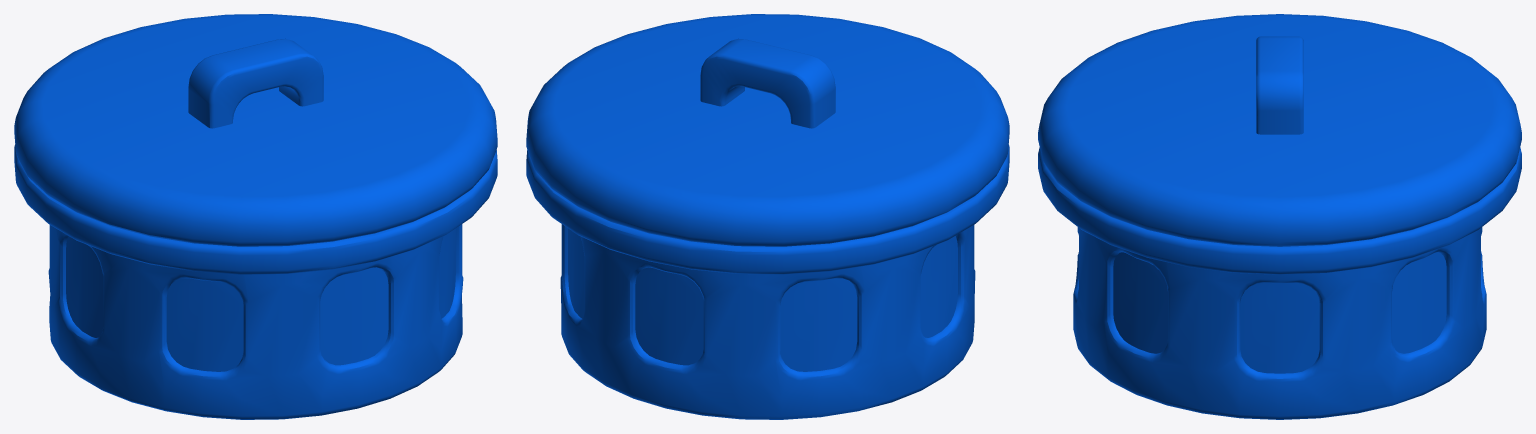
Rendered from SM_Trash_Can.fbx.
3 renders of one model, left to right at view 1: azimuth 30°, elevation 25°; view 2: azimuth 150°, elevation 25°; view 3: azimuth 270°, elevation 25°, orthographic.
Visible parts, largest first — view 1: Trash_Can; view 2: Trash_Can; view 3: Trash_Can.
Boxes of the visible parts, x1,y1,x2,y2 form: Trash_Can: [14, 14, 497, 419]; Trash_Can: [526, 14, 1009, 419]; Trash_Can: [1038, 14, 1521, 419].
Size of the model in its own units: 234 by 149 by 234.
